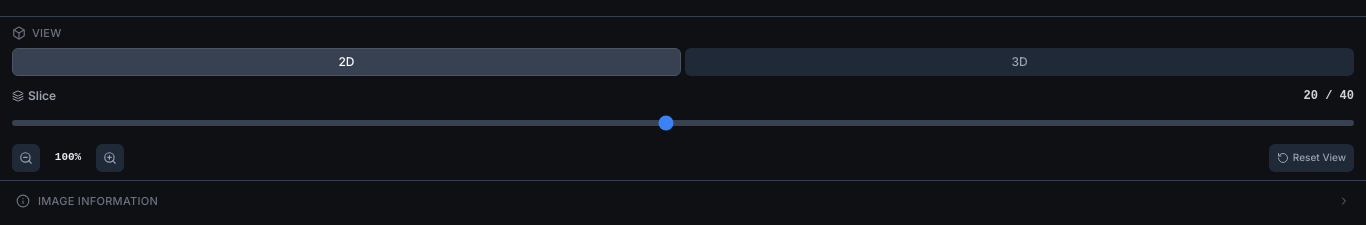
it: PRB-008 — the sidebar slice follows the side-by-side panels › prb008 2x2: moving the sidebar slider moves the panels, not a hidden single-view index
Set the slider to "25" at (870,122), box [12,120,1354,126]
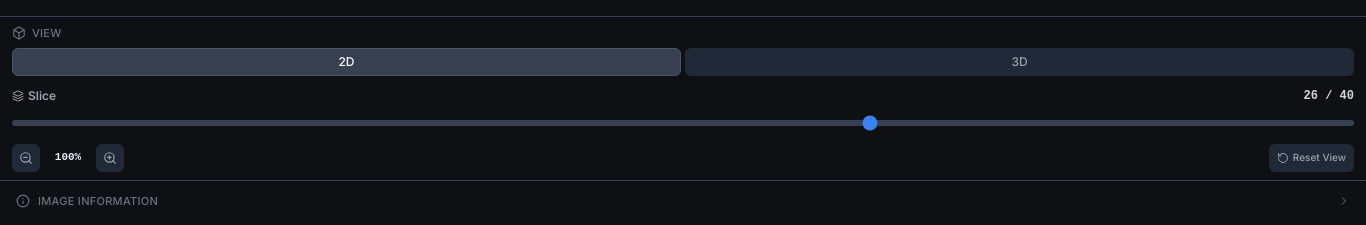
Result: the text "26 / 40" is shown at [1304,88,1354,104]
